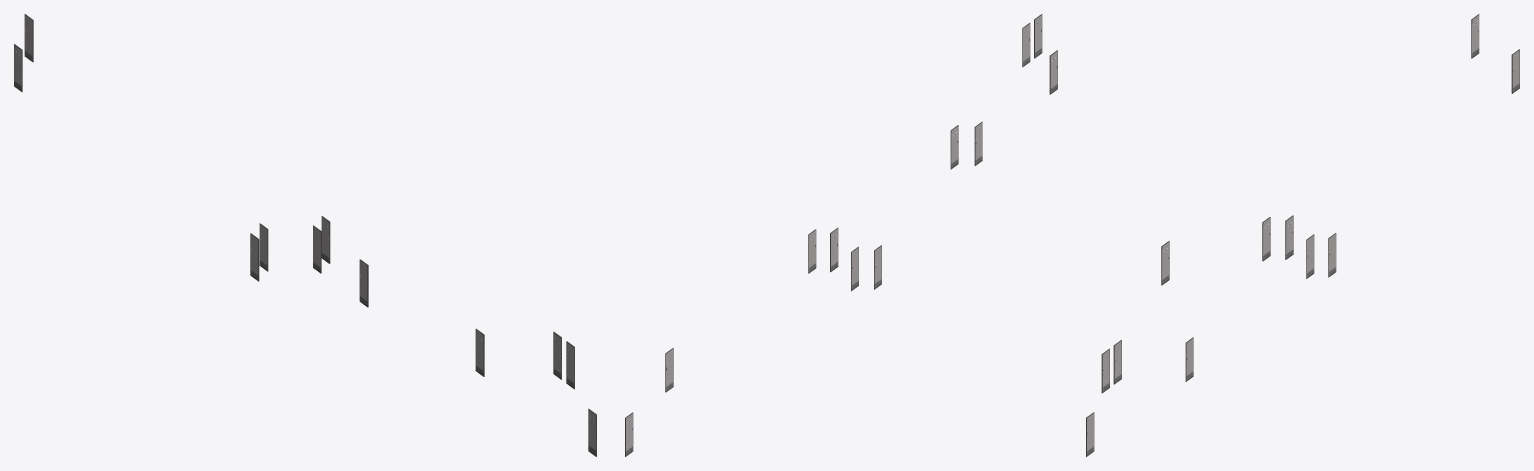
File: AirPlane_Interior_Door.FBX
The picture shows the model from 3 angles, left to right: view 1: azimuth 30°, elevation 25°; view 2: azimuth 150°, elevation 25°; view 3: azimuth 330°, elevation 25°; orthographic projection. The views are drawn at different scales.
Size of the model in its own units: 374 by 458 by 4533.
